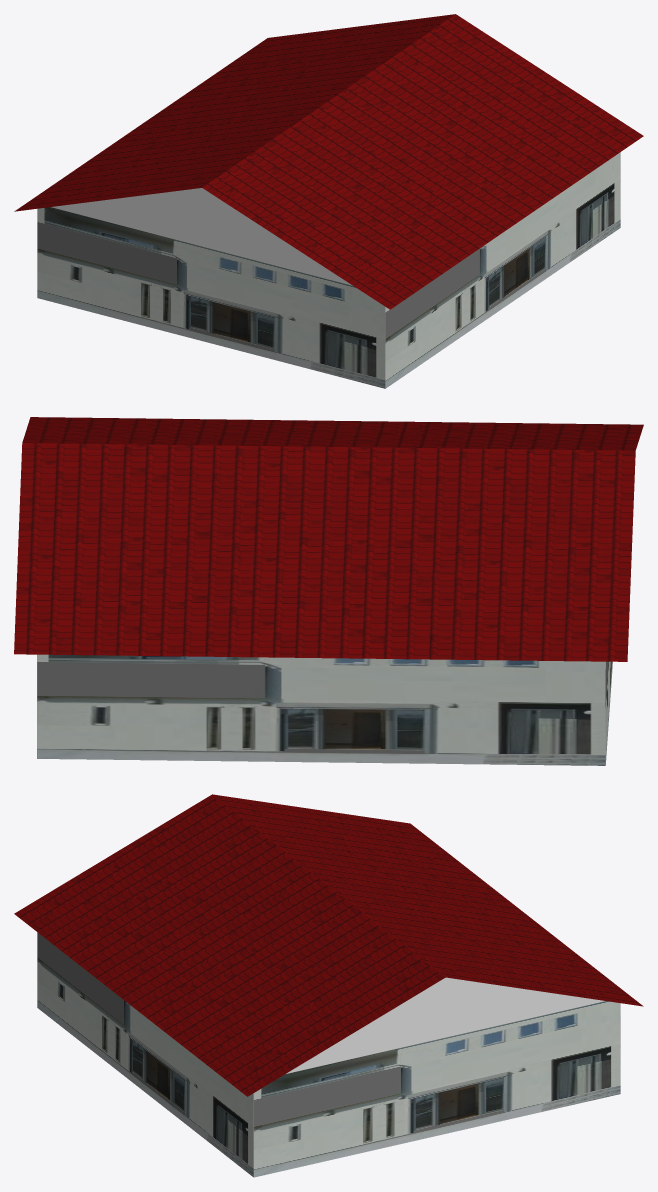
3 renders of one model, top to bottom at view 1: azimuth 30°, elevation 25°; view 2: azimuth 150°, elevation 25°; view 3: azimuth 270°, elevation 25°, orthographic. The views are drawn at different scales.
Visible parts, largest first — view 1: CityEngineMaterial_17_m, CityEngineMaterial_11_m, CityEngineMaterial_3_m; view 2: CityEngineMaterial_17_m, CityEngineMaterial_11_m; view 3: CityEngineMaterial_17_m, CityEngineMaterial_11_m, CityEngineMaterial_3_m.
Part boxes in pixels (x1,y1,x2,y2): CityEngineMaterial_17_m: (14,14,643,309); CityEngineMaterial_11_m: (37,152,620,388); CityEngineMaterial_3_m: (51,188,352,285); CityEngineMaterial_17_m: (14,417,643,661); CityEngineMaterial_11_m: (37,654,612,765); CityEngineMaterial_17_m: (14,794,643,1096); CityEngineMaterial_11_m: (37,932,620,1177); CityEngineMaterial_3_m: (286,977,605,1073).
Size of the model in its own units: 36.03 by 10.14 by 35.09.
